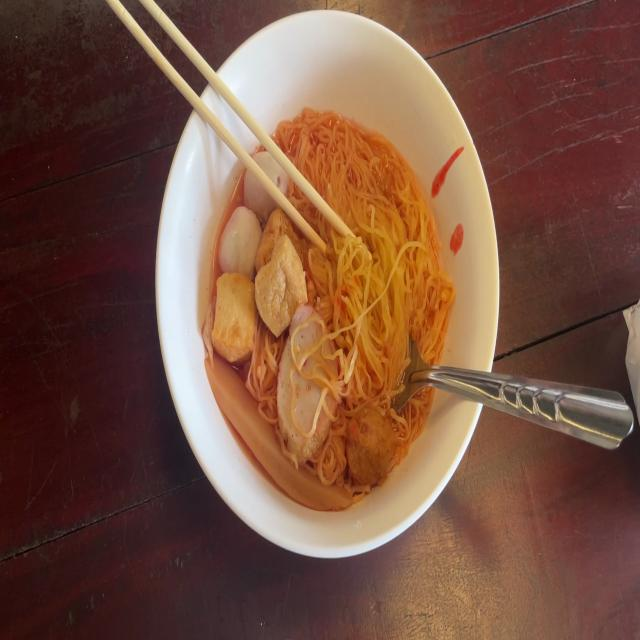crunchy_squid: (205, 348, 355, 518)
egg_noodles: (289, 118, 445, 432)
fish_ball: (216, 206, 263, 281), (242, 150, 290, 218)
fried_fish_balls: (280, 304, 336, 462)
fried_tofu: (254, 210, 310, 329)
noodle: (214, 110, 450, 510)
tofu: (215, 270, 257, 354)
